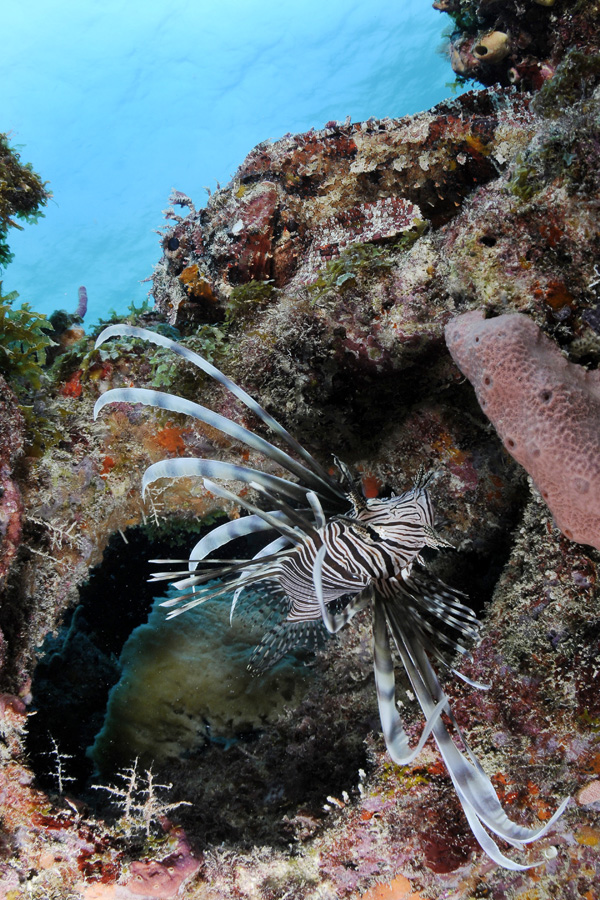Pterois_volitans: (90, 309, 591, 861)
